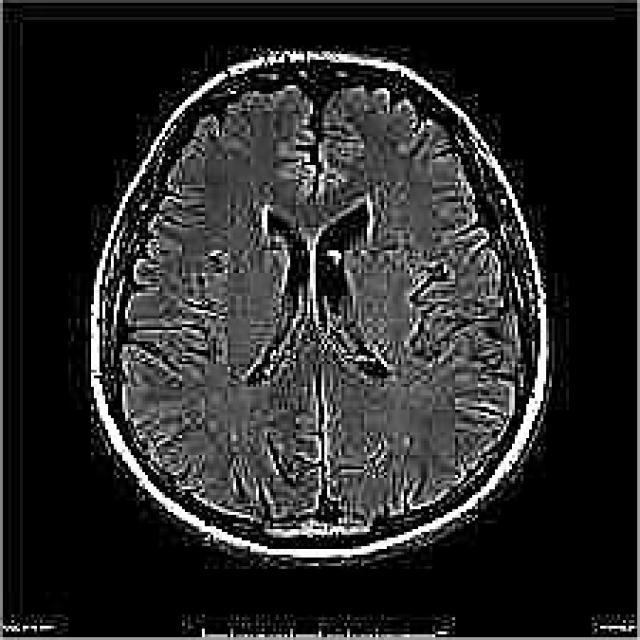notumor: (91, 51, 549, 563)
